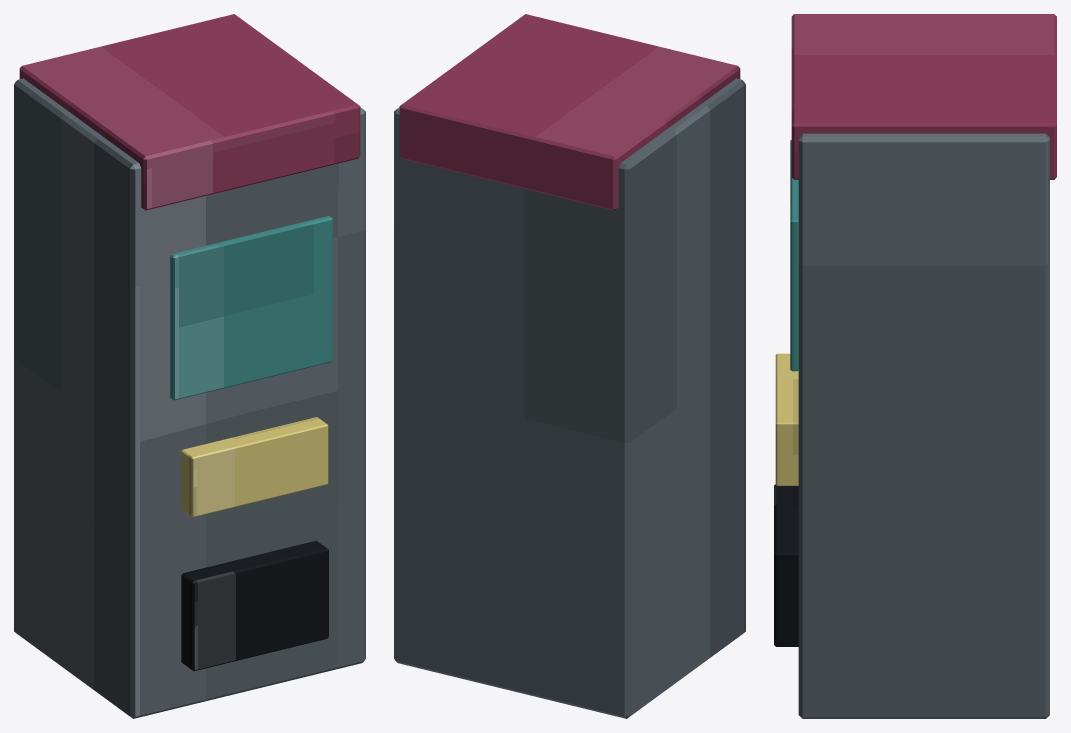
File: arcade_token_changer.glb
3 renders of one model, left to right at view 1: azimuth 30°, elevation 25°; view 2: azimuth 150°, elevation 25°; view 3: azimuth 270°, elevation 25°, orthographic. The views are drawn at different scales.
Visible parts, largest first — view 1: MachineBody, Header, Display, CollectionBin, Control; view 2: MachineBody, Header; view 3: MachineBody, Header, CollectionBin, Control, Display.
Part boxes in pixels (<box>): MachineBody: <box>14,78,365,718</box>; Header: <box>19,14,360,210</box>; Display: <box>170,216,332,400</box>; CollectionBin: <box>181,540,328,671</box>; Control: <box>181,417,328,517</box>; MachineBody: <box>394,78,745,718</box>; Header: <box>399,14,740,210</box>; MachineBody: <box>798,133,1049,718</box>; Header: <box>791,14,1056,179</box>; CollectionBin: <box>774,484,798,646</box>; Control: <box>775,353,798,485</box>; Display: <box>790,140,798,371</box>.
Size of the model in its own units: 0.82 by 1.87 by 0.81.
Materials: 1 (1 with a texture image).
